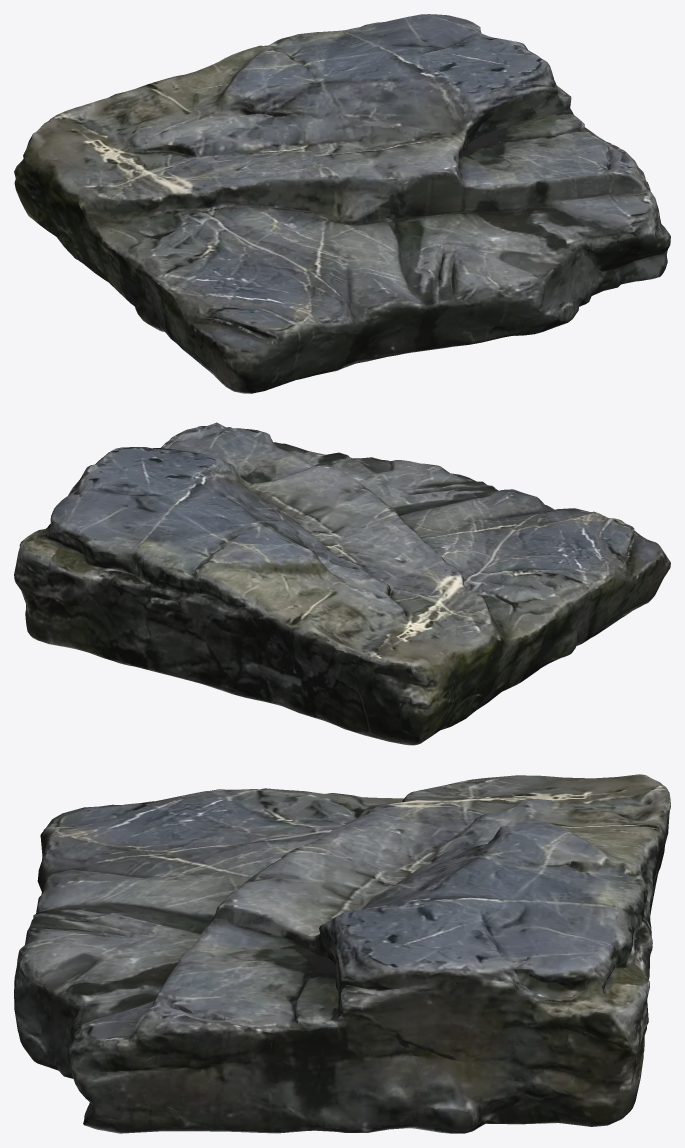
File: riffle-bed-v6-lod.glb
The picture shows the model from 3 angles, top to bottom: view 1: azimuth 30°, elevation 25°; view 2: azimuth 150°, elevation 25°; view 3: azimuth 270°, elevation 25°; orthographic projection. The views are drawn at different scales.
Parts seen in each view (by area): view 1: geometry_0; view 2: geometry_0; view 3: geometry_0.
Boxes of the visible parts, bbox=[...] form: geometry_0: bbox=[14, 14, 670, 393]; geometry_0: bbox=[14, 422, 670, 745]; geometry_0: bbox=[14, 774, 670, 1133].
Bounding box in the file's own units: 0.8497 × 0.2608 × 0.8387.
Materials: 1 (1 with a texture image).
